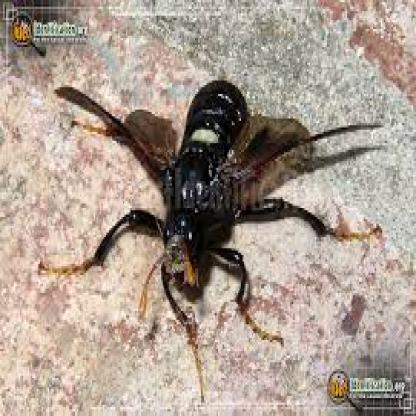sawfly: (53, 73, 384, 368)
